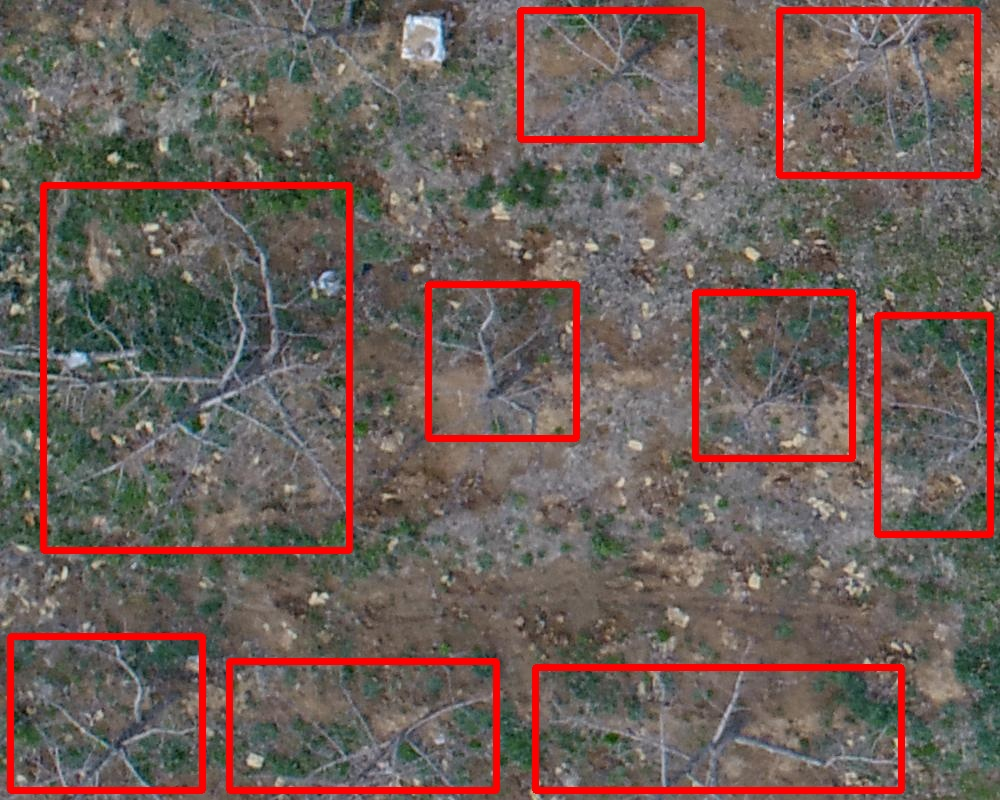apple: (43, 185, 349, 550), (535, 667, 901, 790), (229, 661, 496, 790), (779, 10, 977, 175), (10, 636, 202, 790), (695, 292, 852, 458), (877, 315, 990, 534), (520, 10, 701, 139), (428, 284, 576, 438)
